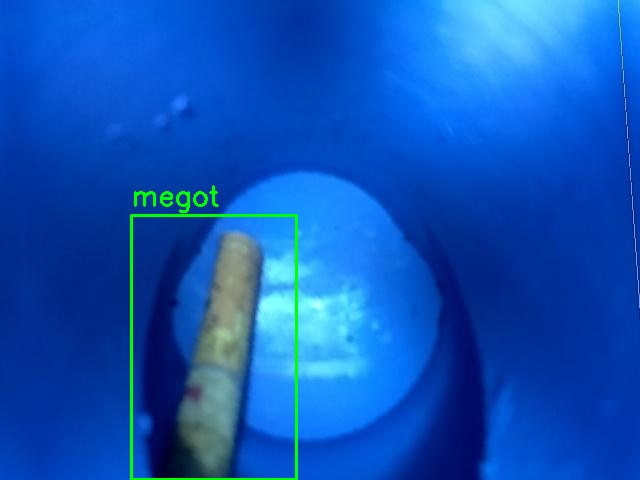megot: (131, 215, 296, 479)
